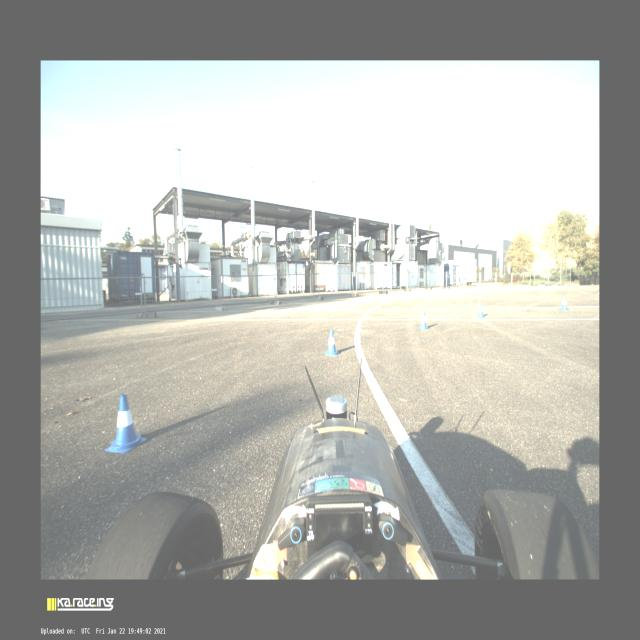blue_cone: (105, 394, 147, 453), (325, 330, 339, 356), (418, 311, 430, 329), (559, 296, 569, 310), (476, 304, 484, 318)
